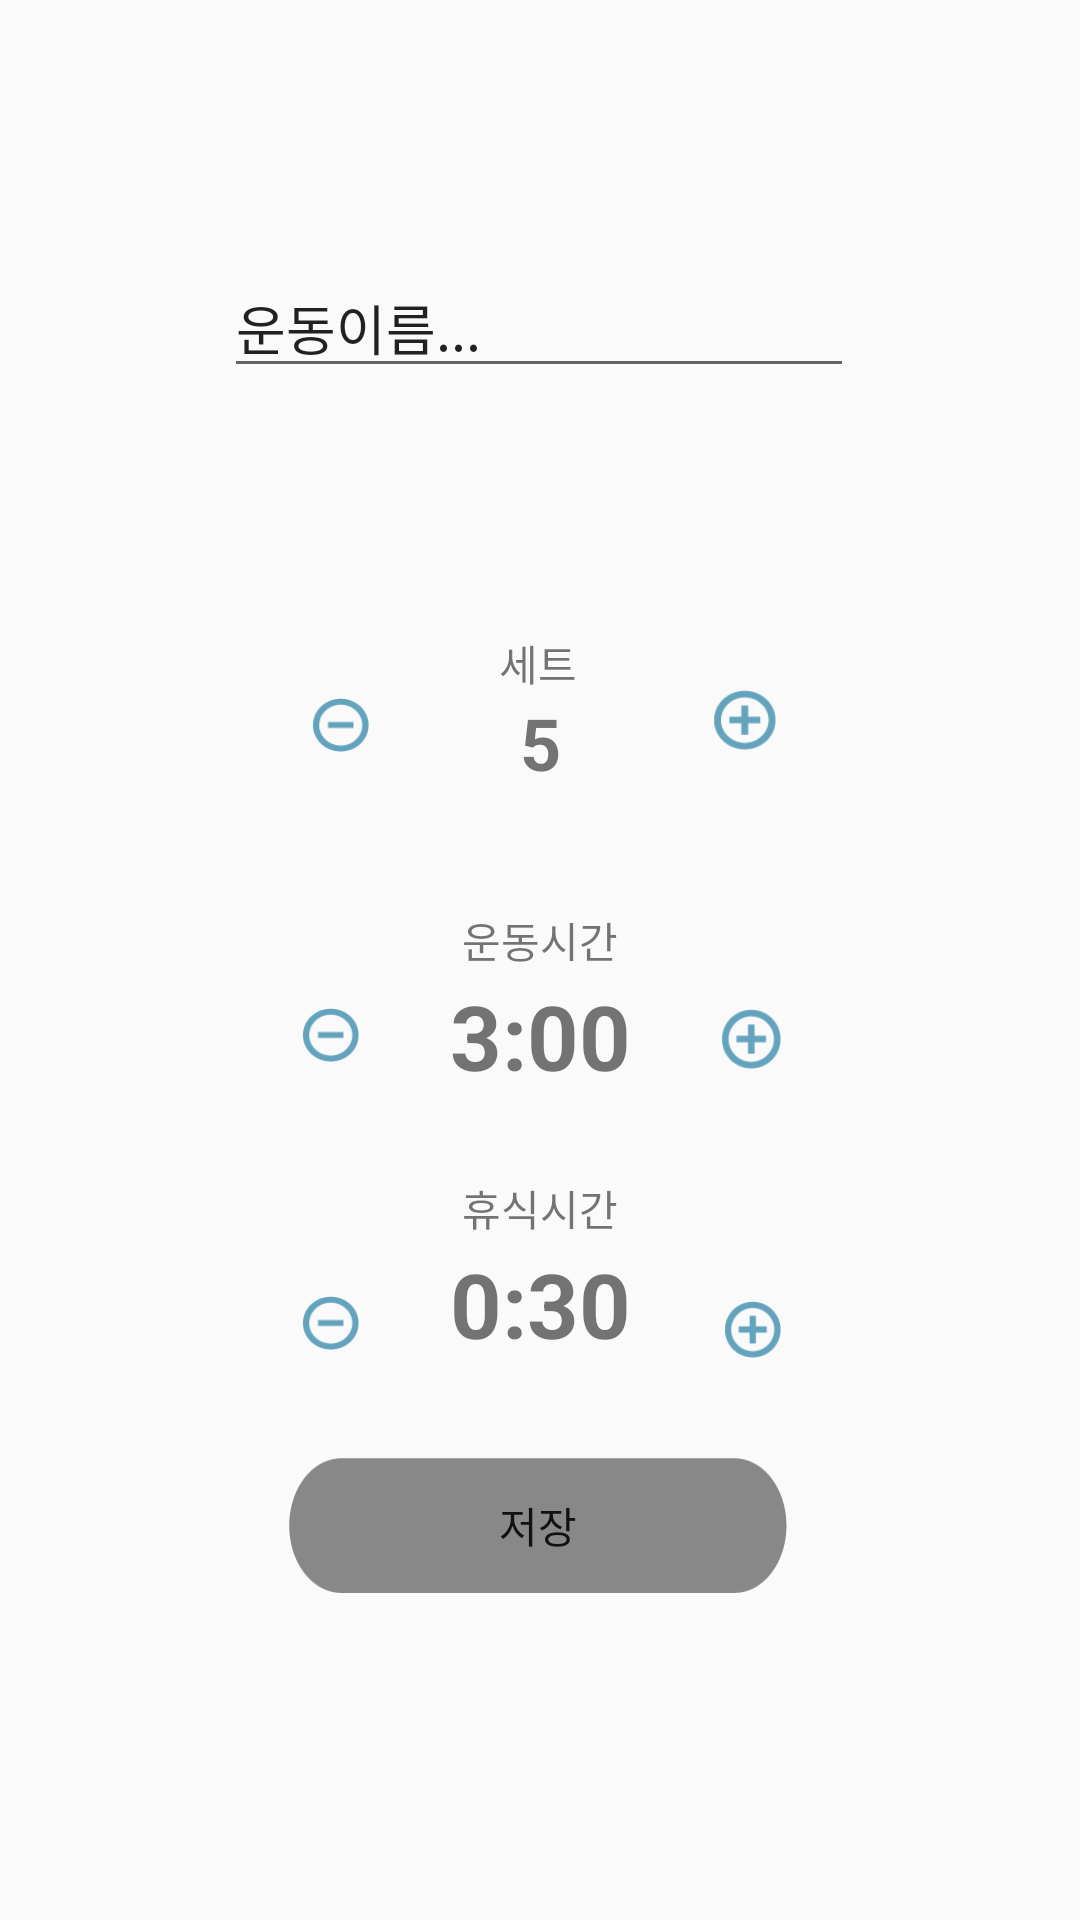

Point at icon controls on the screen. Image size 1080px x 1920px, points as point (x, y).
misnus: point (341, 725), point (331, 1035), point (331, 1323)
plus: point (745, 720), point (751, 1039), point (753, 1329)
